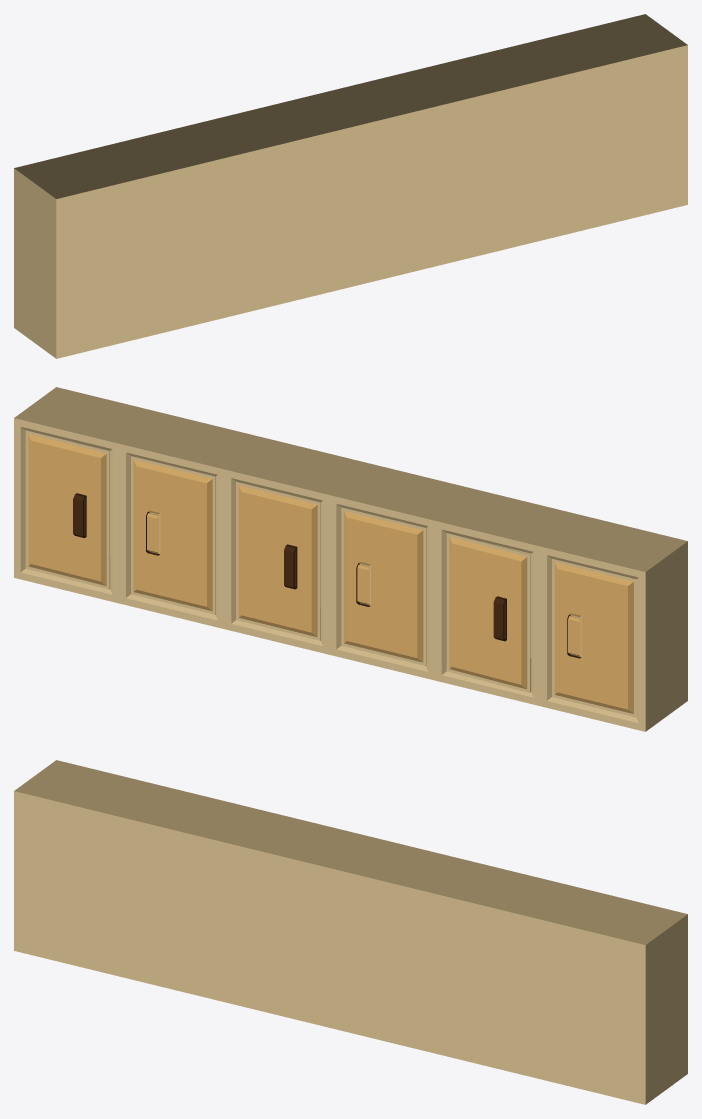
Rendered from Cabinet 8.fbx.
3 renders of one model, top to bottom at view 1: azimuth 30°, elevation 25°; view 2: azimuth 150°, elevation 25°; view 3: azimuth 330°, elevation 25°, orthographic.
Parts seen in each view (by area): view 1: Cabinet; view 2: Cabinet; view 3: Cabinet.
Boxes of the visible parts, <box> form: Cabinet: <box>14,14,687,358</box>; Cabinet: <box>14,387,687,731</box>; Cabinet: <box>14,760,687,1104</box>.
Bounding box in the file's own units: 0.3635 × 0.6779 × 2.8.
